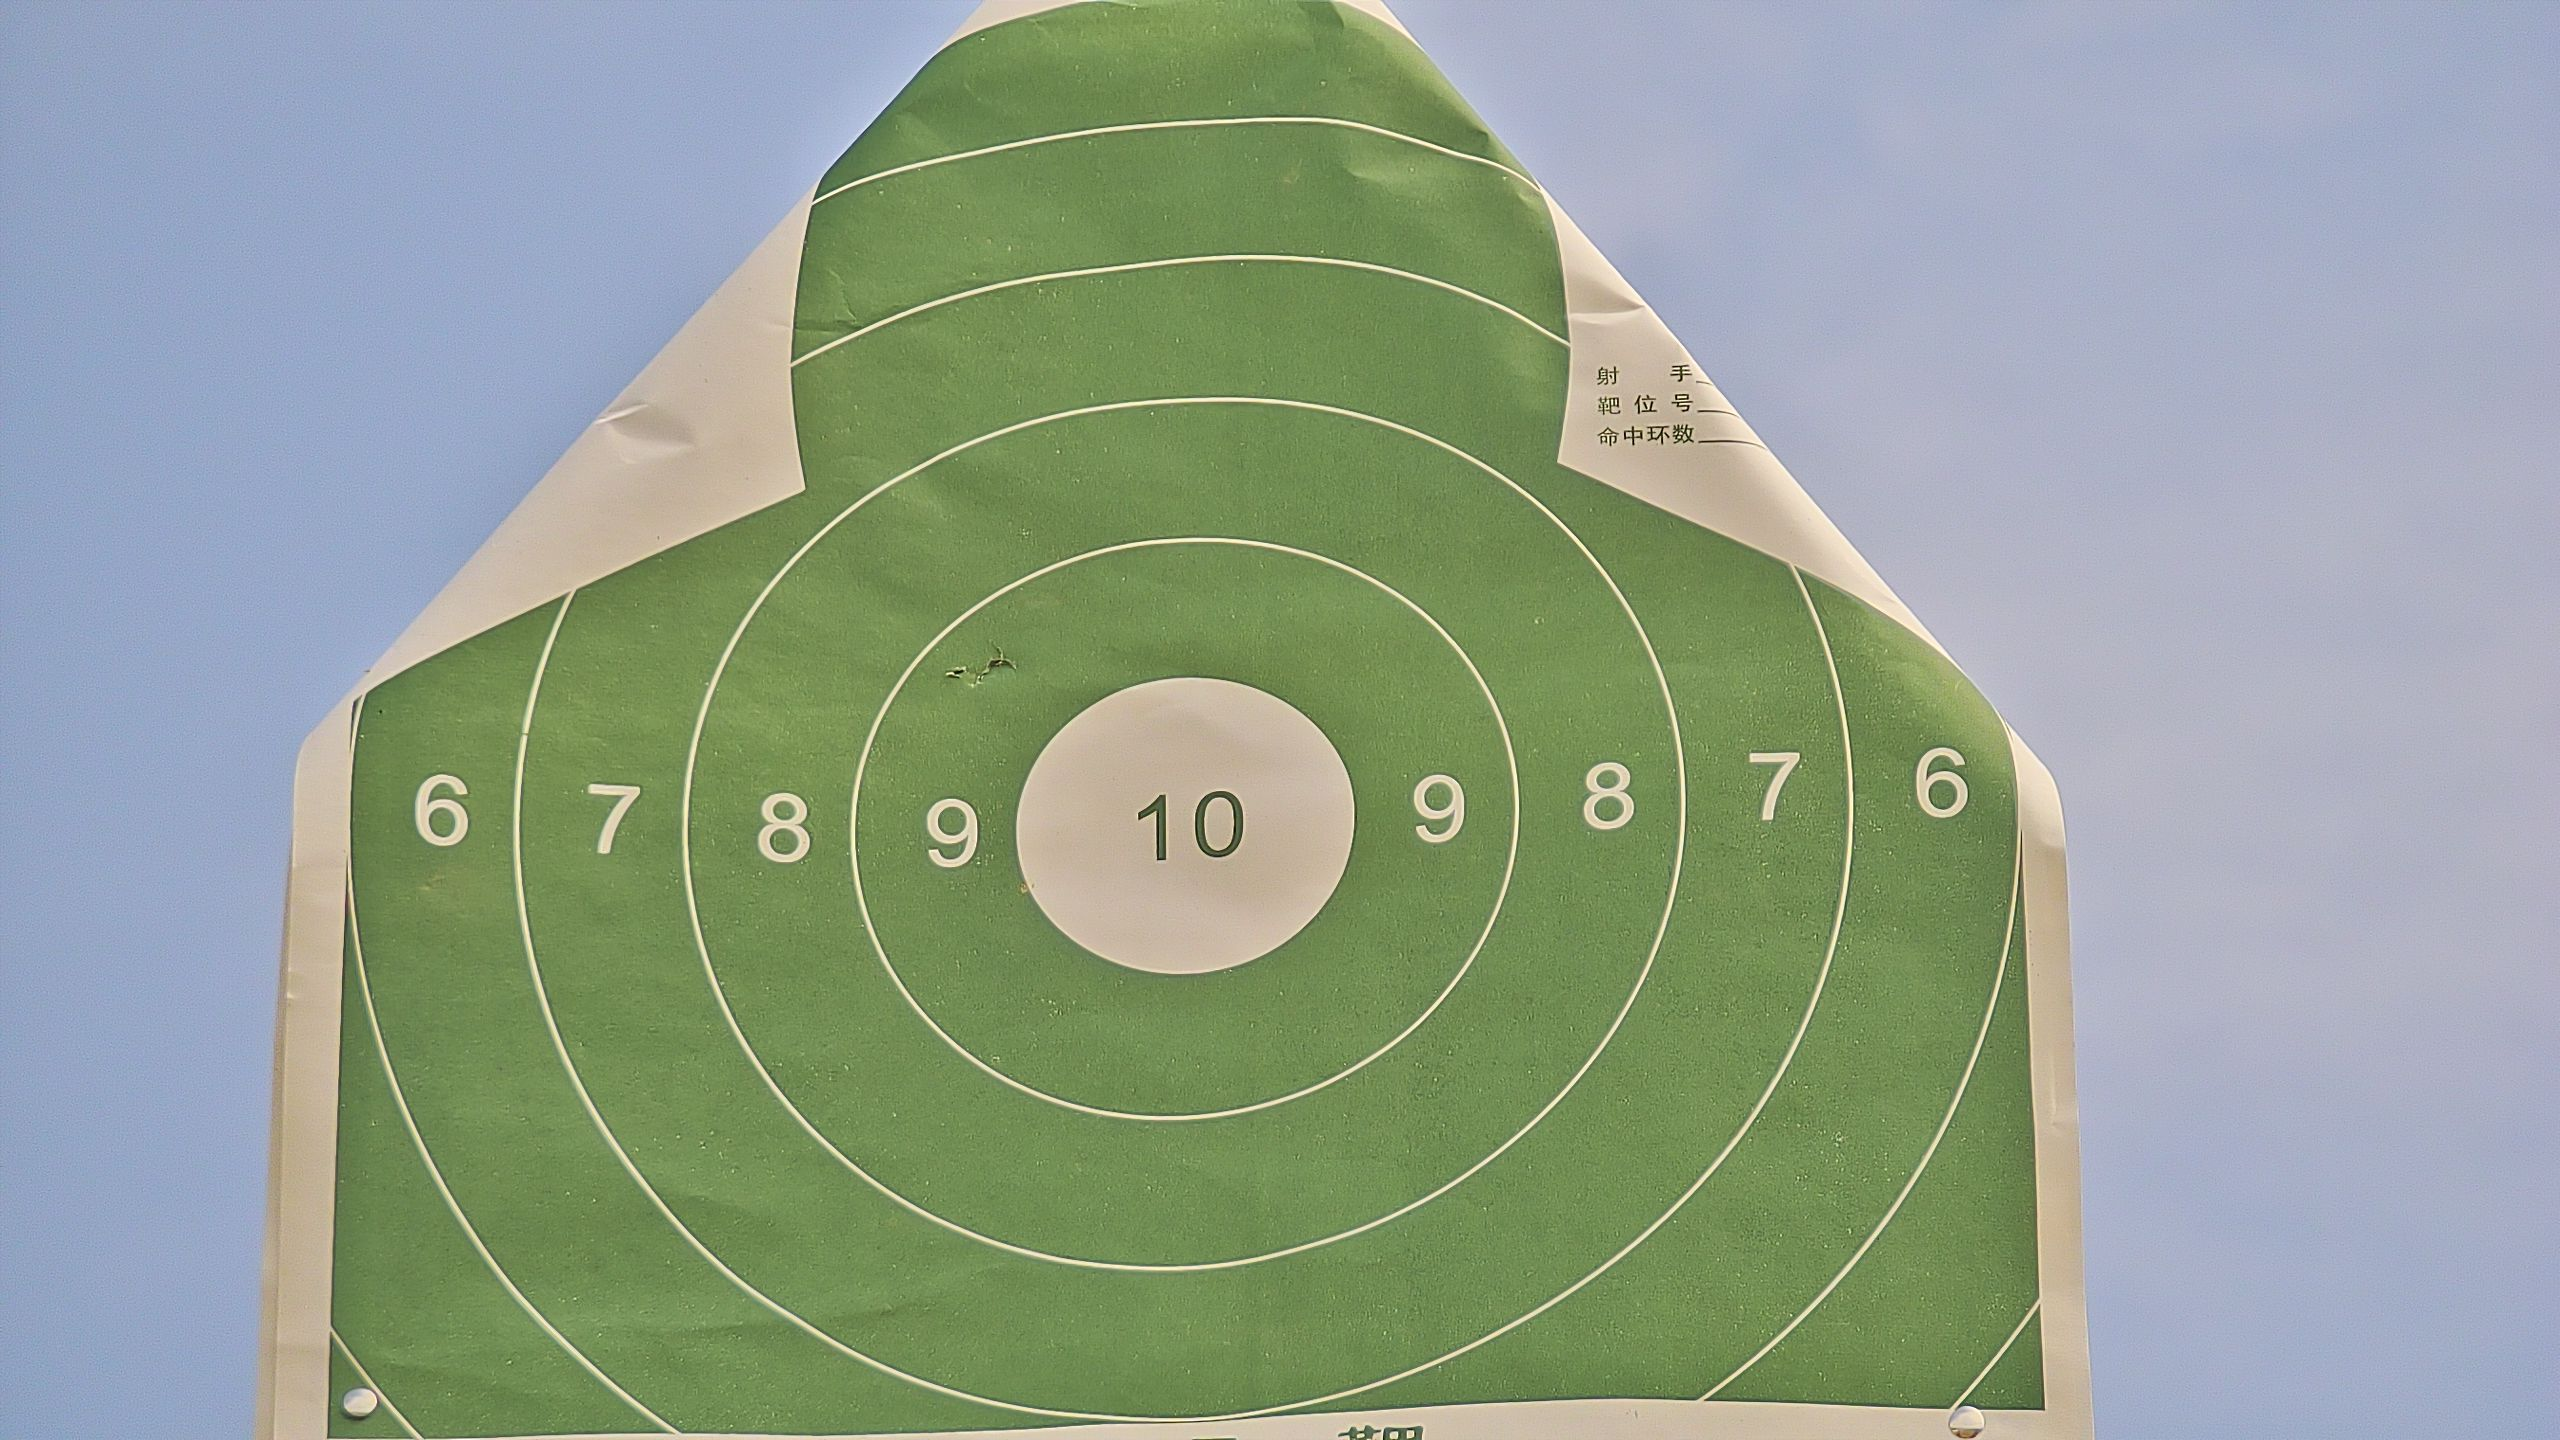target: (325, 5, 2048, 1440)
ten: (1016, 675, 1356, 976)
